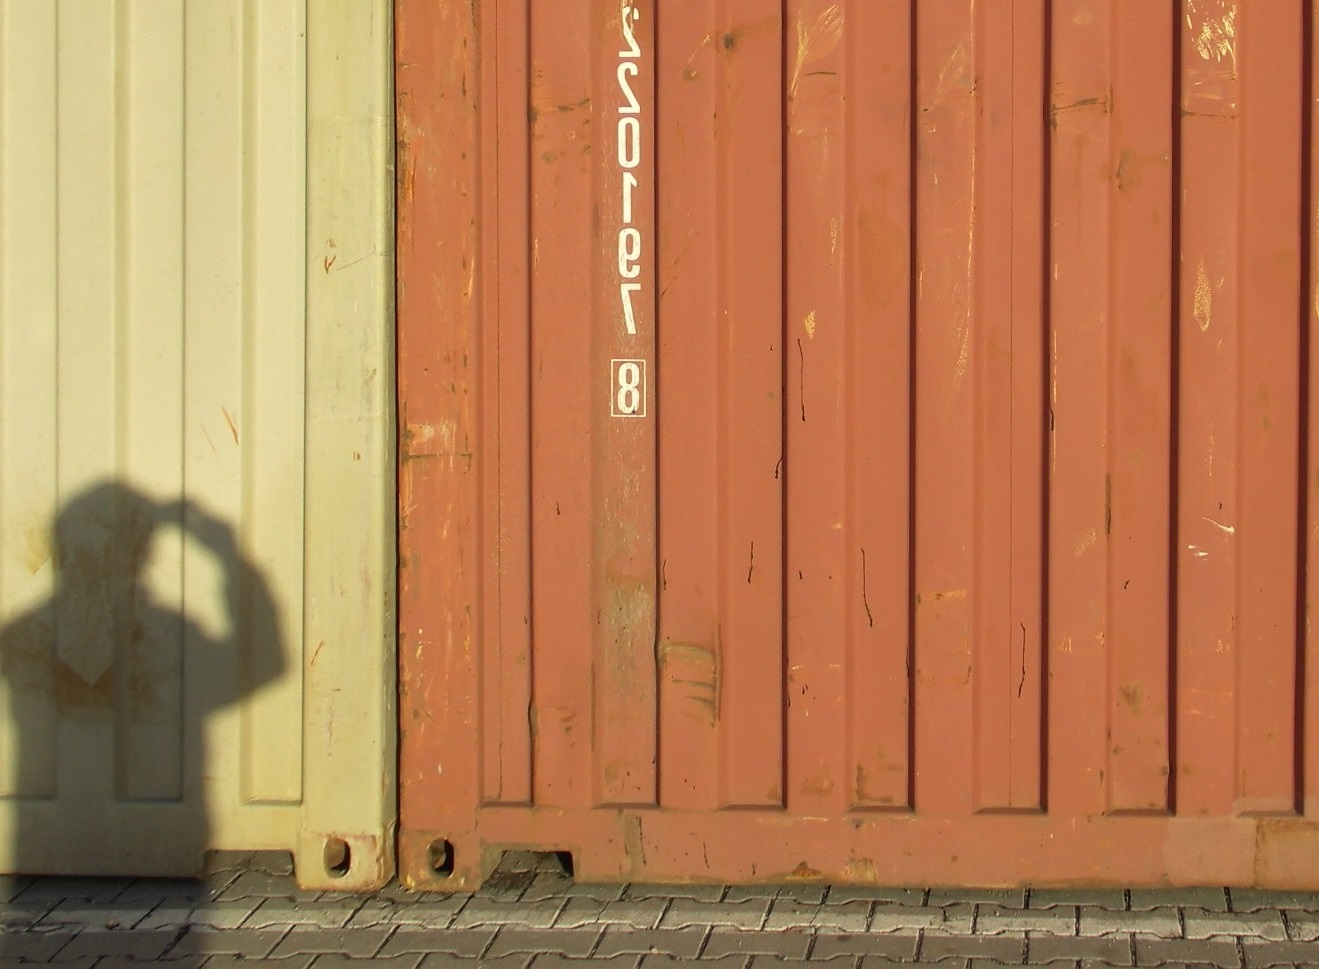container_no_door: (393, 1, 1313, 884), (1, 1, 390, 893)
